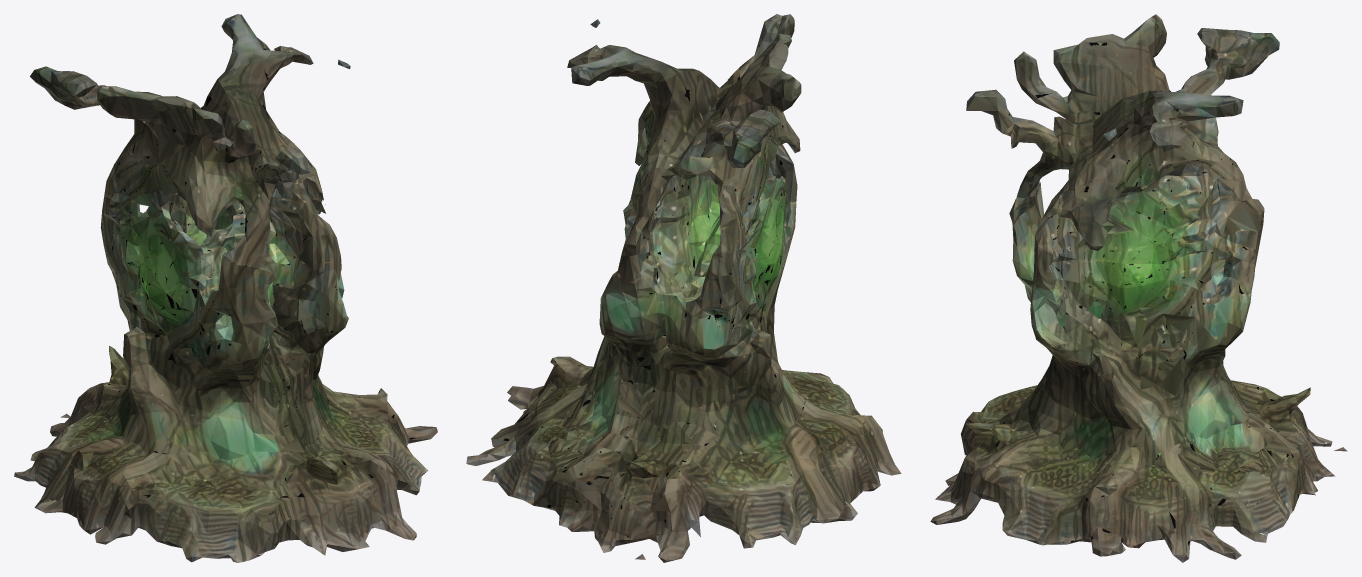
The model's file is nexus_4.glb.
3 views of the same model, side by side, from view 1: azimuth 30°, elevation 25°; view 2: azimuth 150°, elevation 25°; view 3: azimuth 270°, elevation 25° (orthographic). The views are drawn at different scales.
Parts seen in each view (by area): view 1: test (6); view 2: test (6); view 3: test (6).
Boxes of the visible parts, left/top/right/bottom form: test (6): left=14, top=14, right=437, bottom=562; test (6): left=466, top=14, right=901, bottom=562; test (6): left=930, top=14, right=1347, bottom=562.
Size of the model in its own units: 4.59 by 5.02 by 4.55.
1 material, 1 textured.
